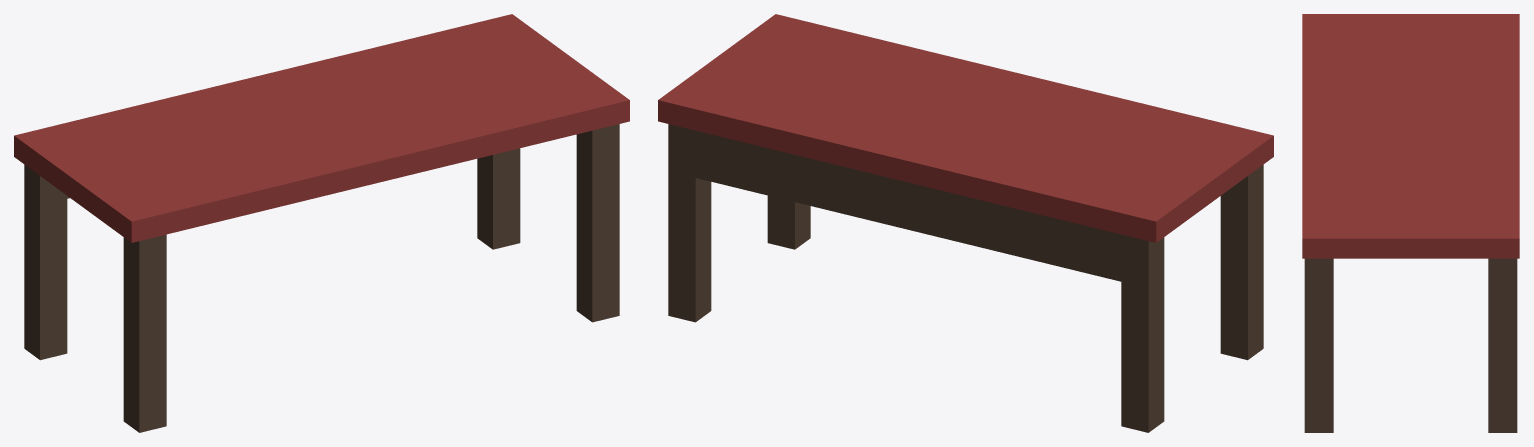
Rendered from altar_table.glb.
3 views of the same model, side by side, from view 1: azimuth 30°, elevation 25°; view 2: azimuth 150°, elevation 25°; view 3: azimuth 270°, elevation 25° (orthographic). The views are drawn at different scales.
Parts seen in each view (by area): view 1: SM_AltarTable; view 2: SM_AltarTable; view 3: SM_AltarTable.
Part boxes in pixels (bbox=[...]): SM_AltarTable: bbox=[14, 14, 629, 432]; SM_AltarTable: bbox=[658, 14, 1273, 432]; SM_AltarTable: bbox=[1302, 14, 1519, 432].
Bounding box in the file's own units: 2.2 × 0.905 × 0.9.
